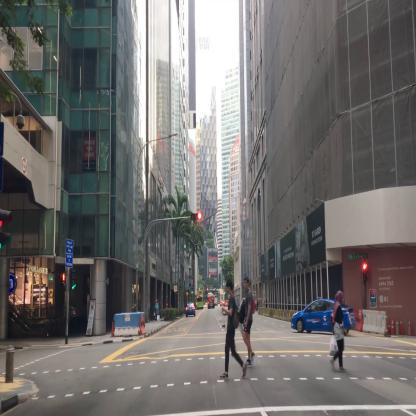red_traffic_light: (363, 263, 367, 283), (191, 214, 201, 219)
